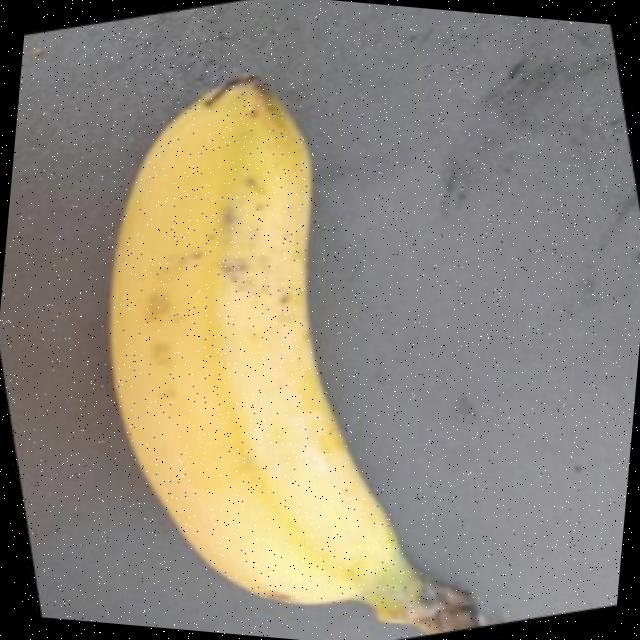Ripe: (50, 42, 554, 640)
